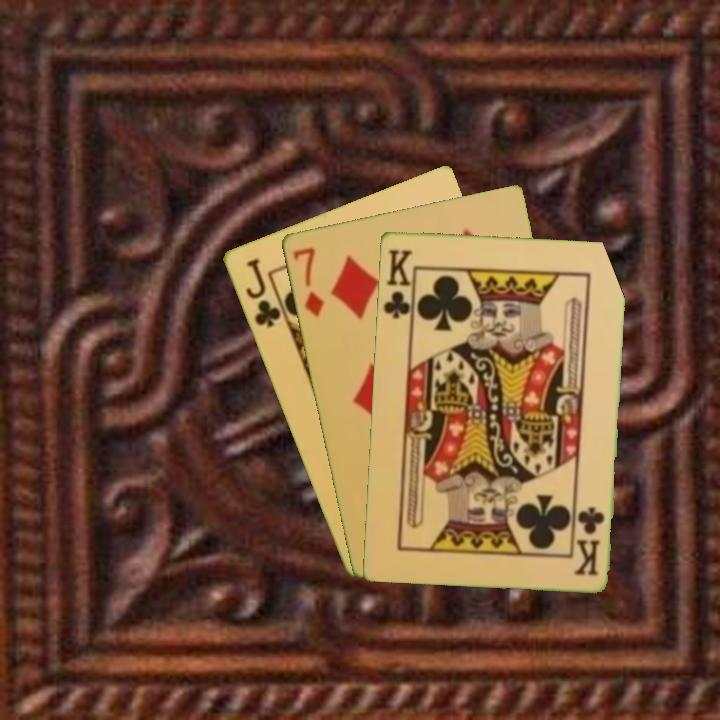7d: (289, 243, 327, 320)
Jc: (241, 254, 283, 331)
Kc: (379, 245, 417, 325), (571, 502, 607, 578)
